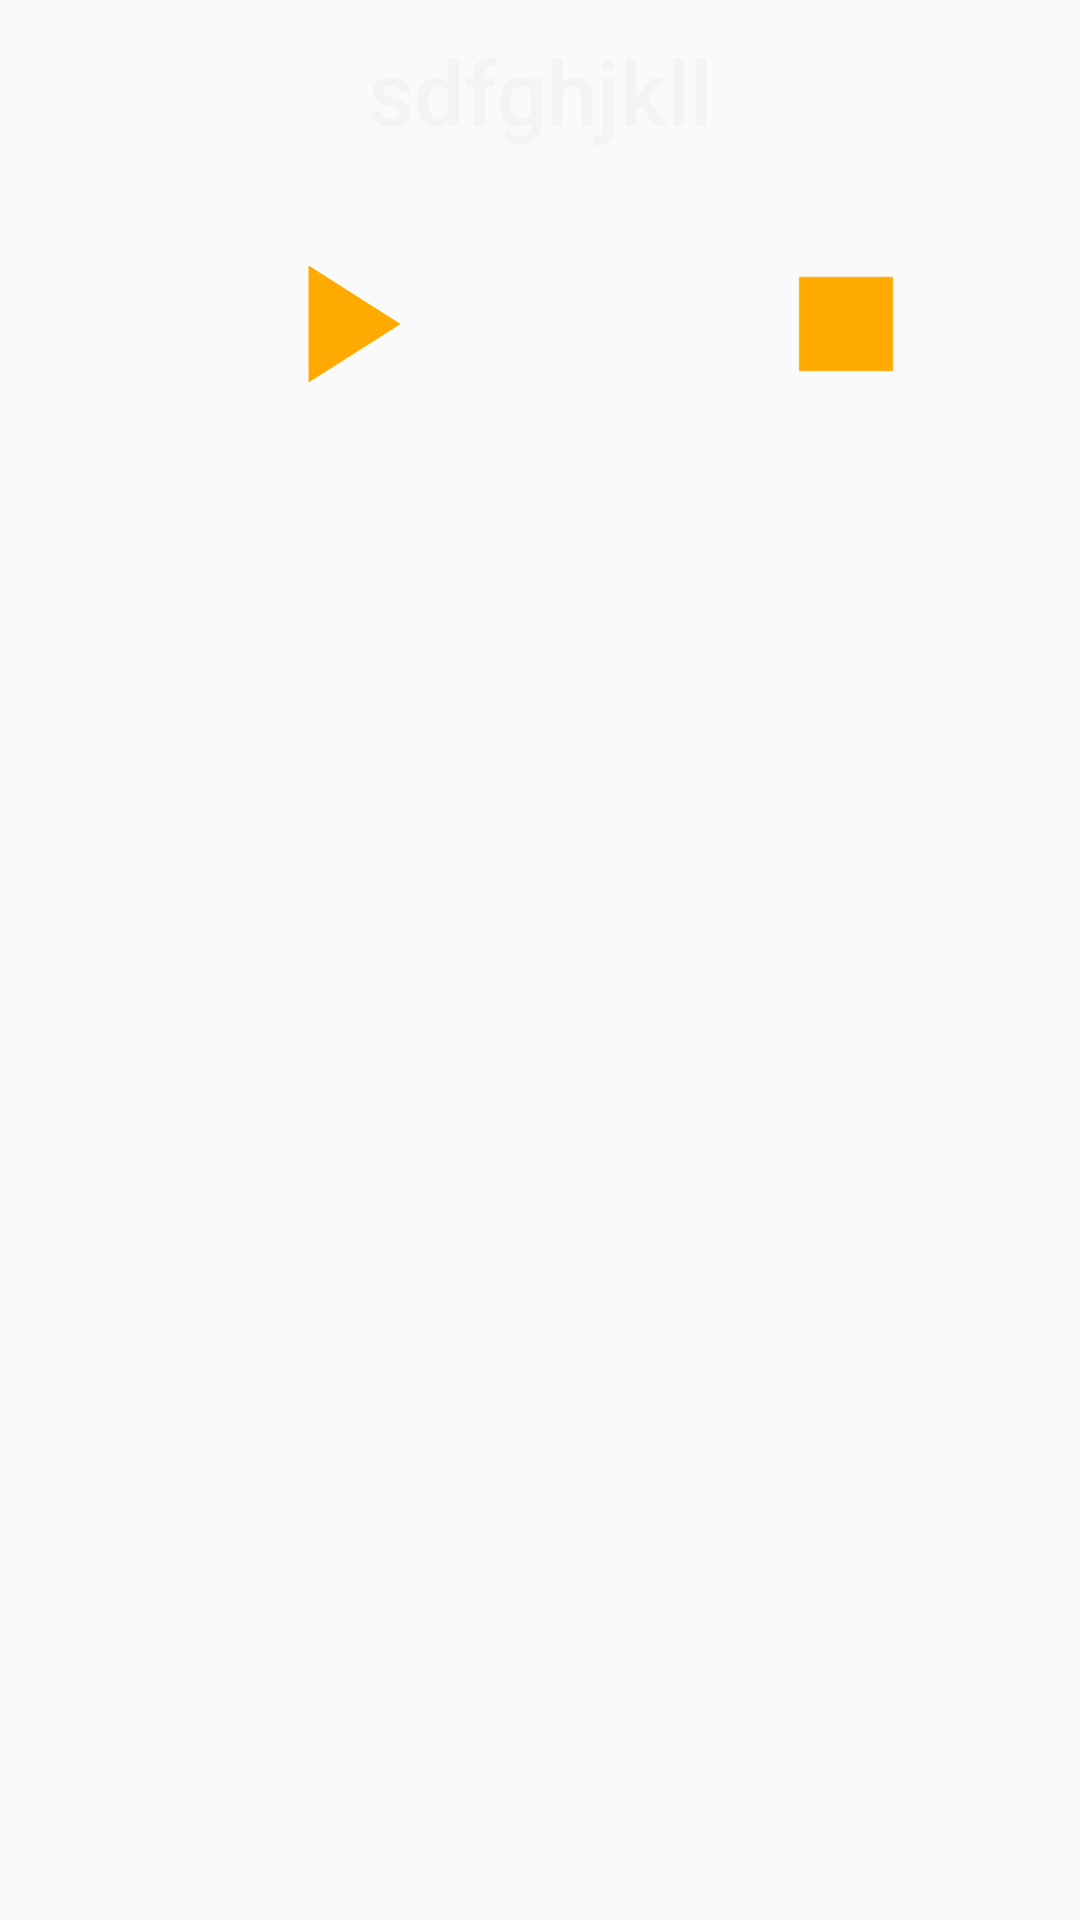

Where icons sit on this 1080 × 1920 app screen, as [left=x1, top=y1, right=x2, bottom=y2]:
play: [left=308, top=265, right=401, bottom=383]
stop: [left=798, top=276, right=894, bottom=372]
